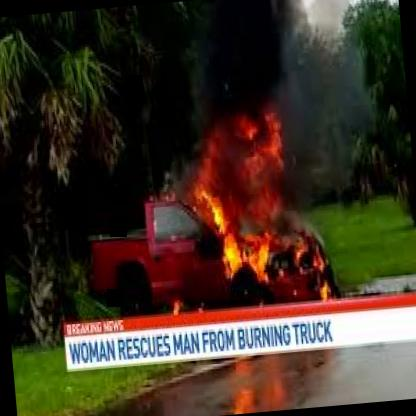fire: (118, 84, 340, 314)
